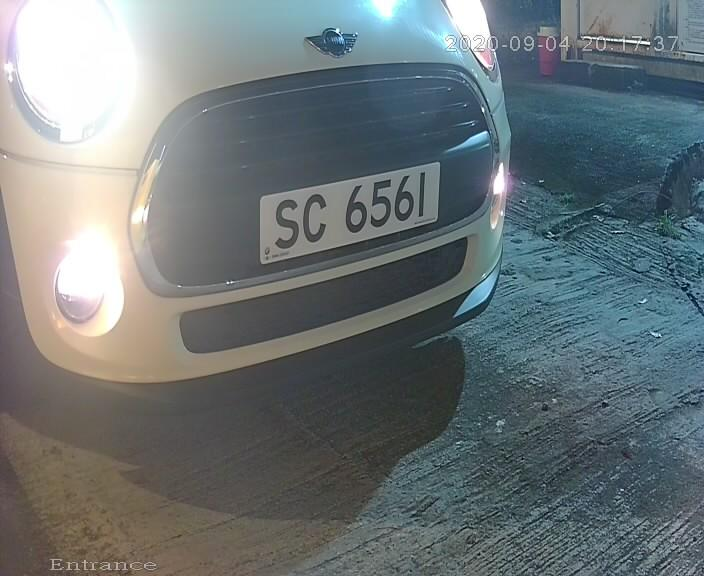License Plate: (238, 139, 455, 281)
